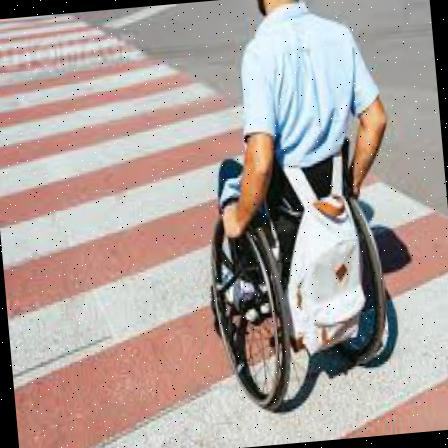wheel: (185, 0, 413, 419)
